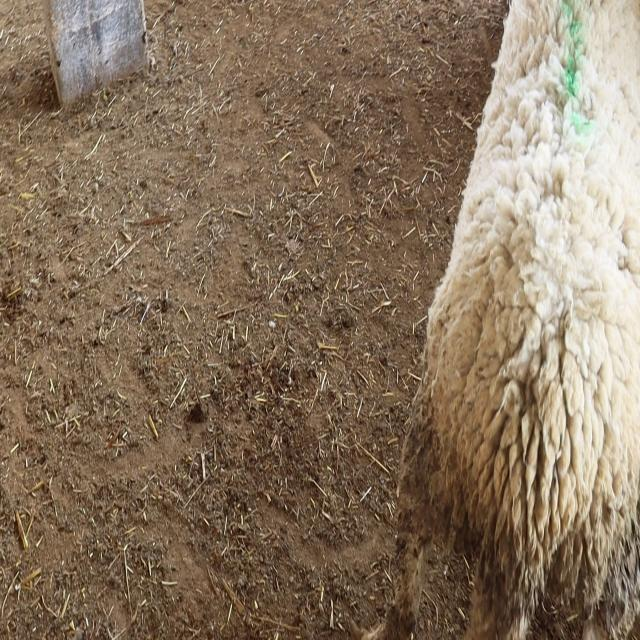Score_4: (368, 0, 640, 639)
